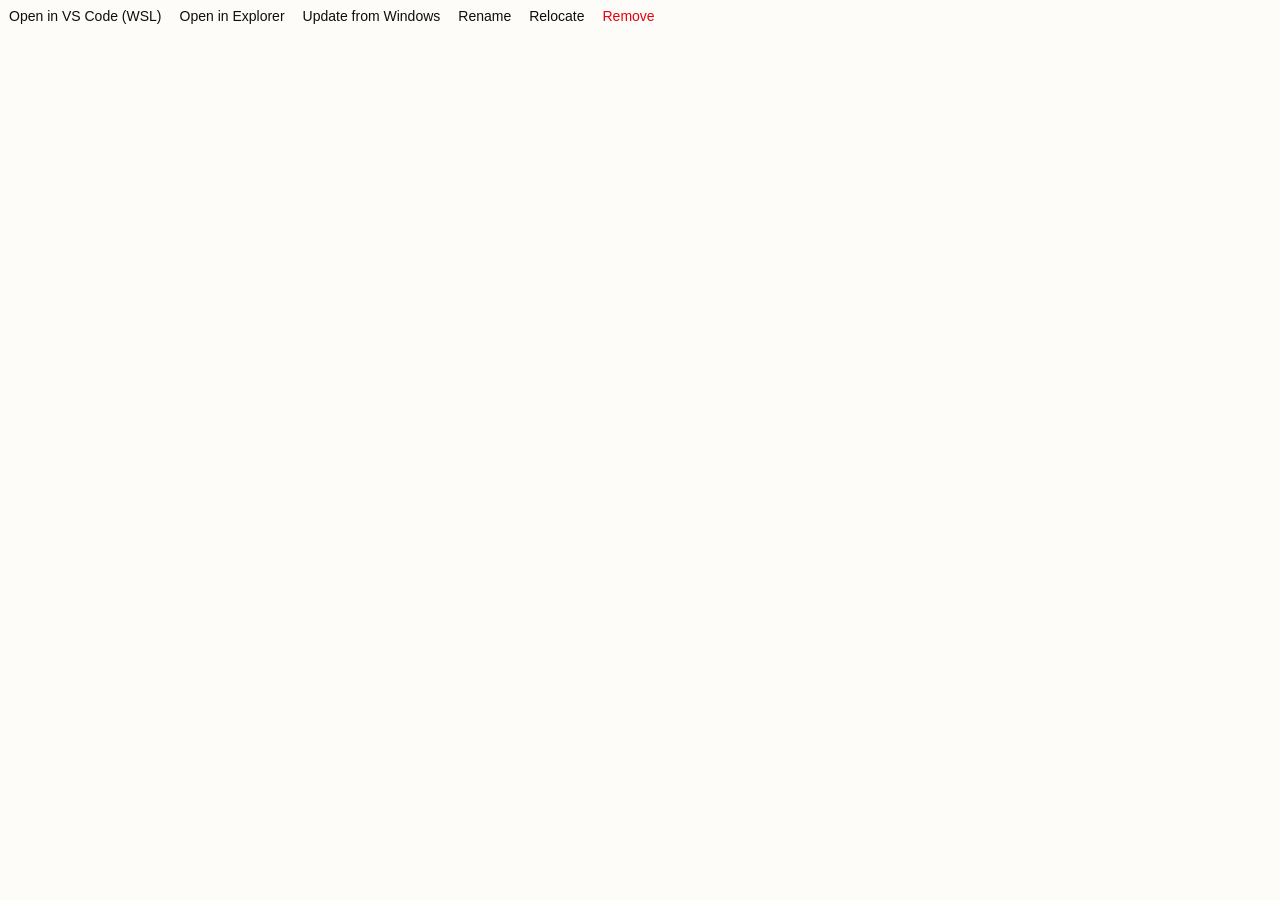
Test case: the system actions › a_system_change_closes_the_remove_dialog_instead_of_retargeting_it
Click the button "Remove" at (629, 16), box [594,0,664,32]
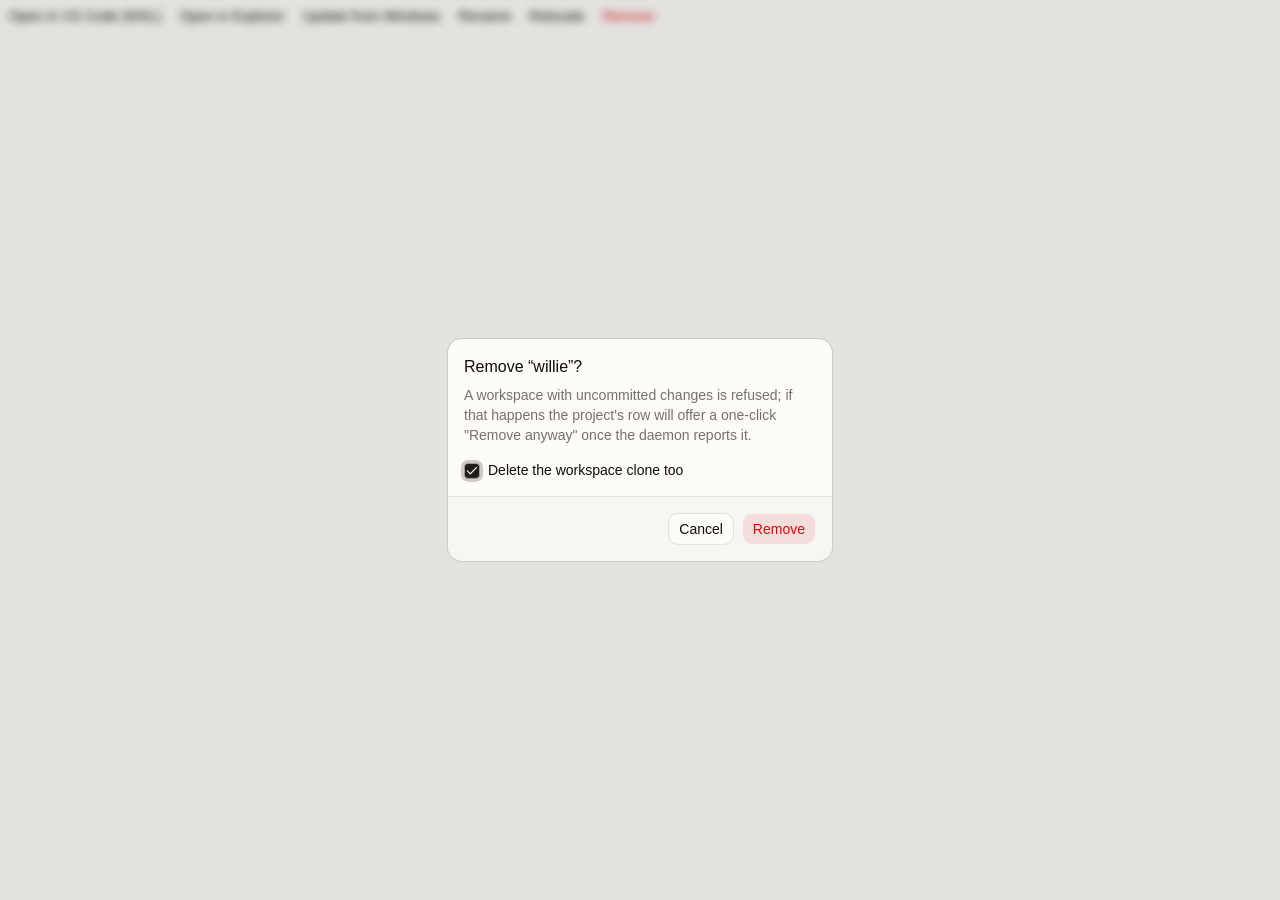
Expected: the heading "Remove “willie”?" is shown, [464,355,582,379]
